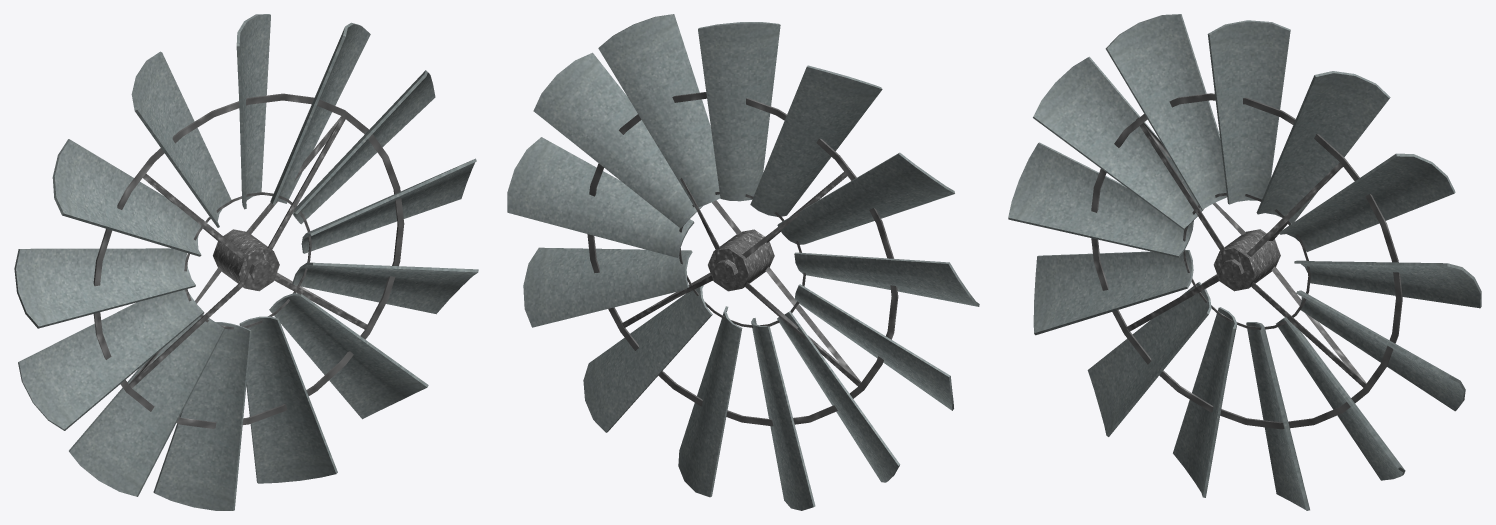
The model's file is WM_Prop.FBX.
The picture shows the model from 3 angles, left to right: view 1: azimuth 30°, elevation 25°; view 2: azimuth 150°, elevation 25°; view 3: azimuth 330°, elevation 25°; orthographic projection.
Parts seen in each view (by area): view 1: WindMillHead256a; view 2: WindMillHead256a; view 3: WindMillHead256a.
Part boxes in pixels (x1,y1,x2,y2): WindMillHead256a: (14,14,478,510); WindMillHead256a: (507,14,979,510); WindMillHead256a: (1008,14,1481,510).
Bounding box in the file's own units: 30.56 × 30.47 × 3.79.
